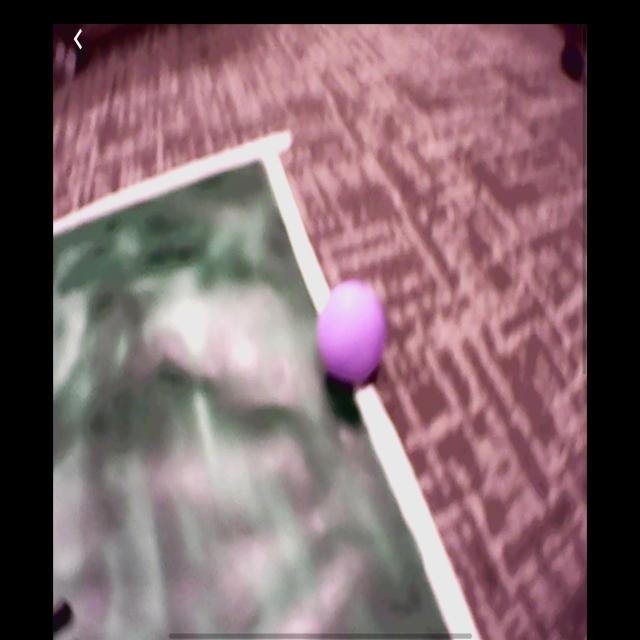ball: (317, 285, 384, 385)
